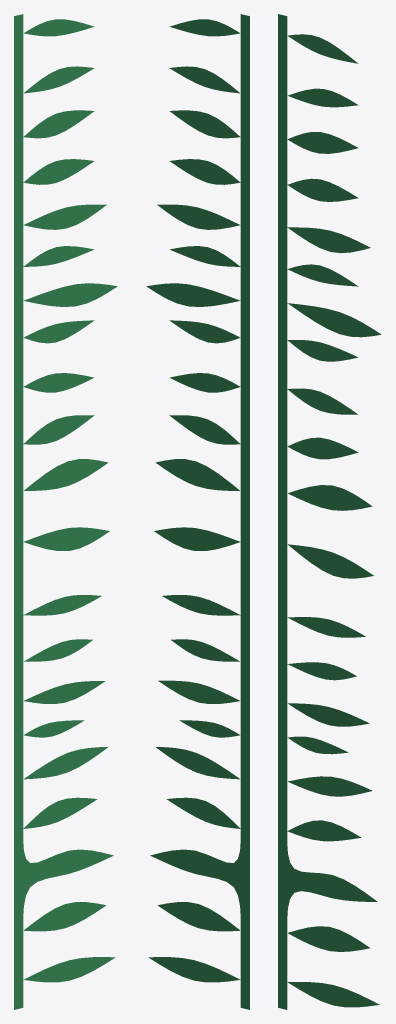
File: seaweed_4.fbx
The picture shows the model from 3 angles, left to right: view 1: azimuth 30°, elevation 25°; view 2: azimuth 150°, elevation 25°; view 3: azimuth 330°, elevation 25°; orthographic projection.
Visible parts, largest first — view 1: seaweed_4; view 2: seaweed_4; view 3: seaweed_4.
Part boxes in pixels (box(x1,y1,x2,y2)): seaweed_4: box(14, 14, 117, 1009); seaweed_4: box(146, 14, 249, 1009); seaweed_4: box(278, 14, 381, 1009).
Size of the model in its own units: 229 by 2097 by 1.75.
